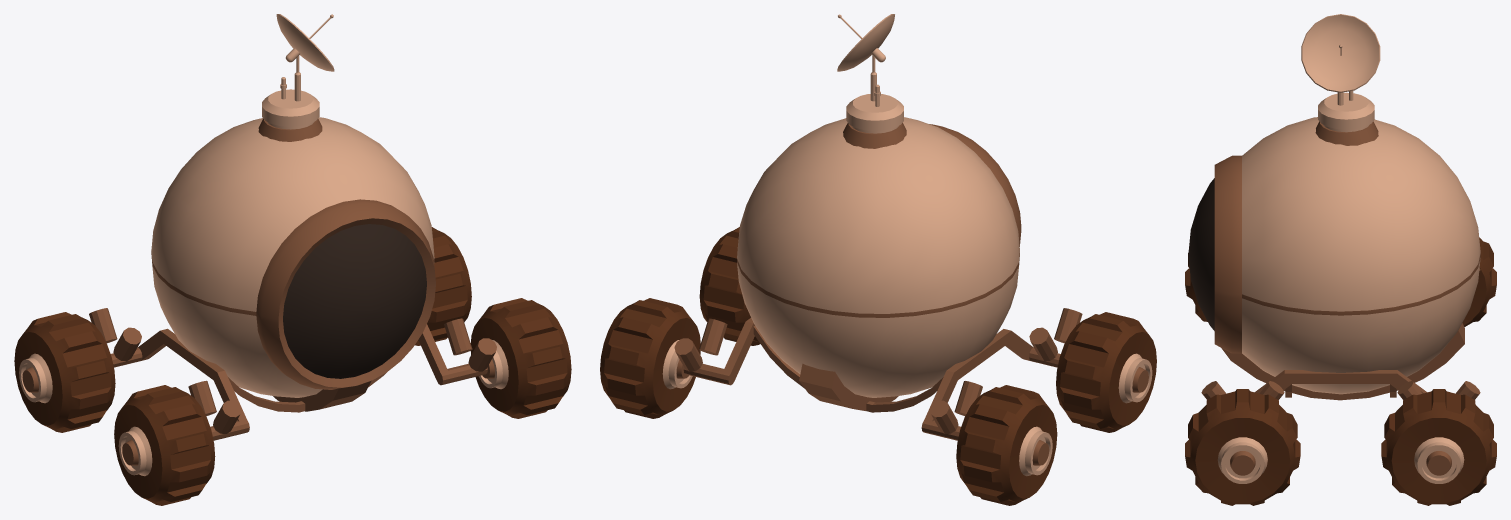
Rendered from quaternius-ultimate-space-rover-round-transformed.glb.
3 renders of one model, left to right at view 1: azimuth 30°, elevation 25°; view 2: azimuth 150°, elevation 25°; view 3: azimuth 270°, elevation 25°, orthographic.
Parts seen in each view (by area): view 1: Wheel_1; view 2: Wheel_1; view 3: Wheel_1.
Boxes of the visible parts, x1=… form: Wheel_1: x1=14, y1=14, x2=571, y2=505; Wheel_1: x1=600, y1=14, x2=1156, y2=505; Wheel_1: x1=1185, y1=14, x2=1496, y2=505.
Size of the model in its own units: 5.79 by 5.17 by 3.69.
Materials: 1 (1 with a texture image).
